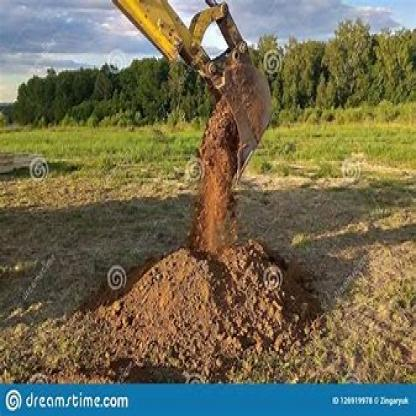excavator: (102, 0, 282, 188)
